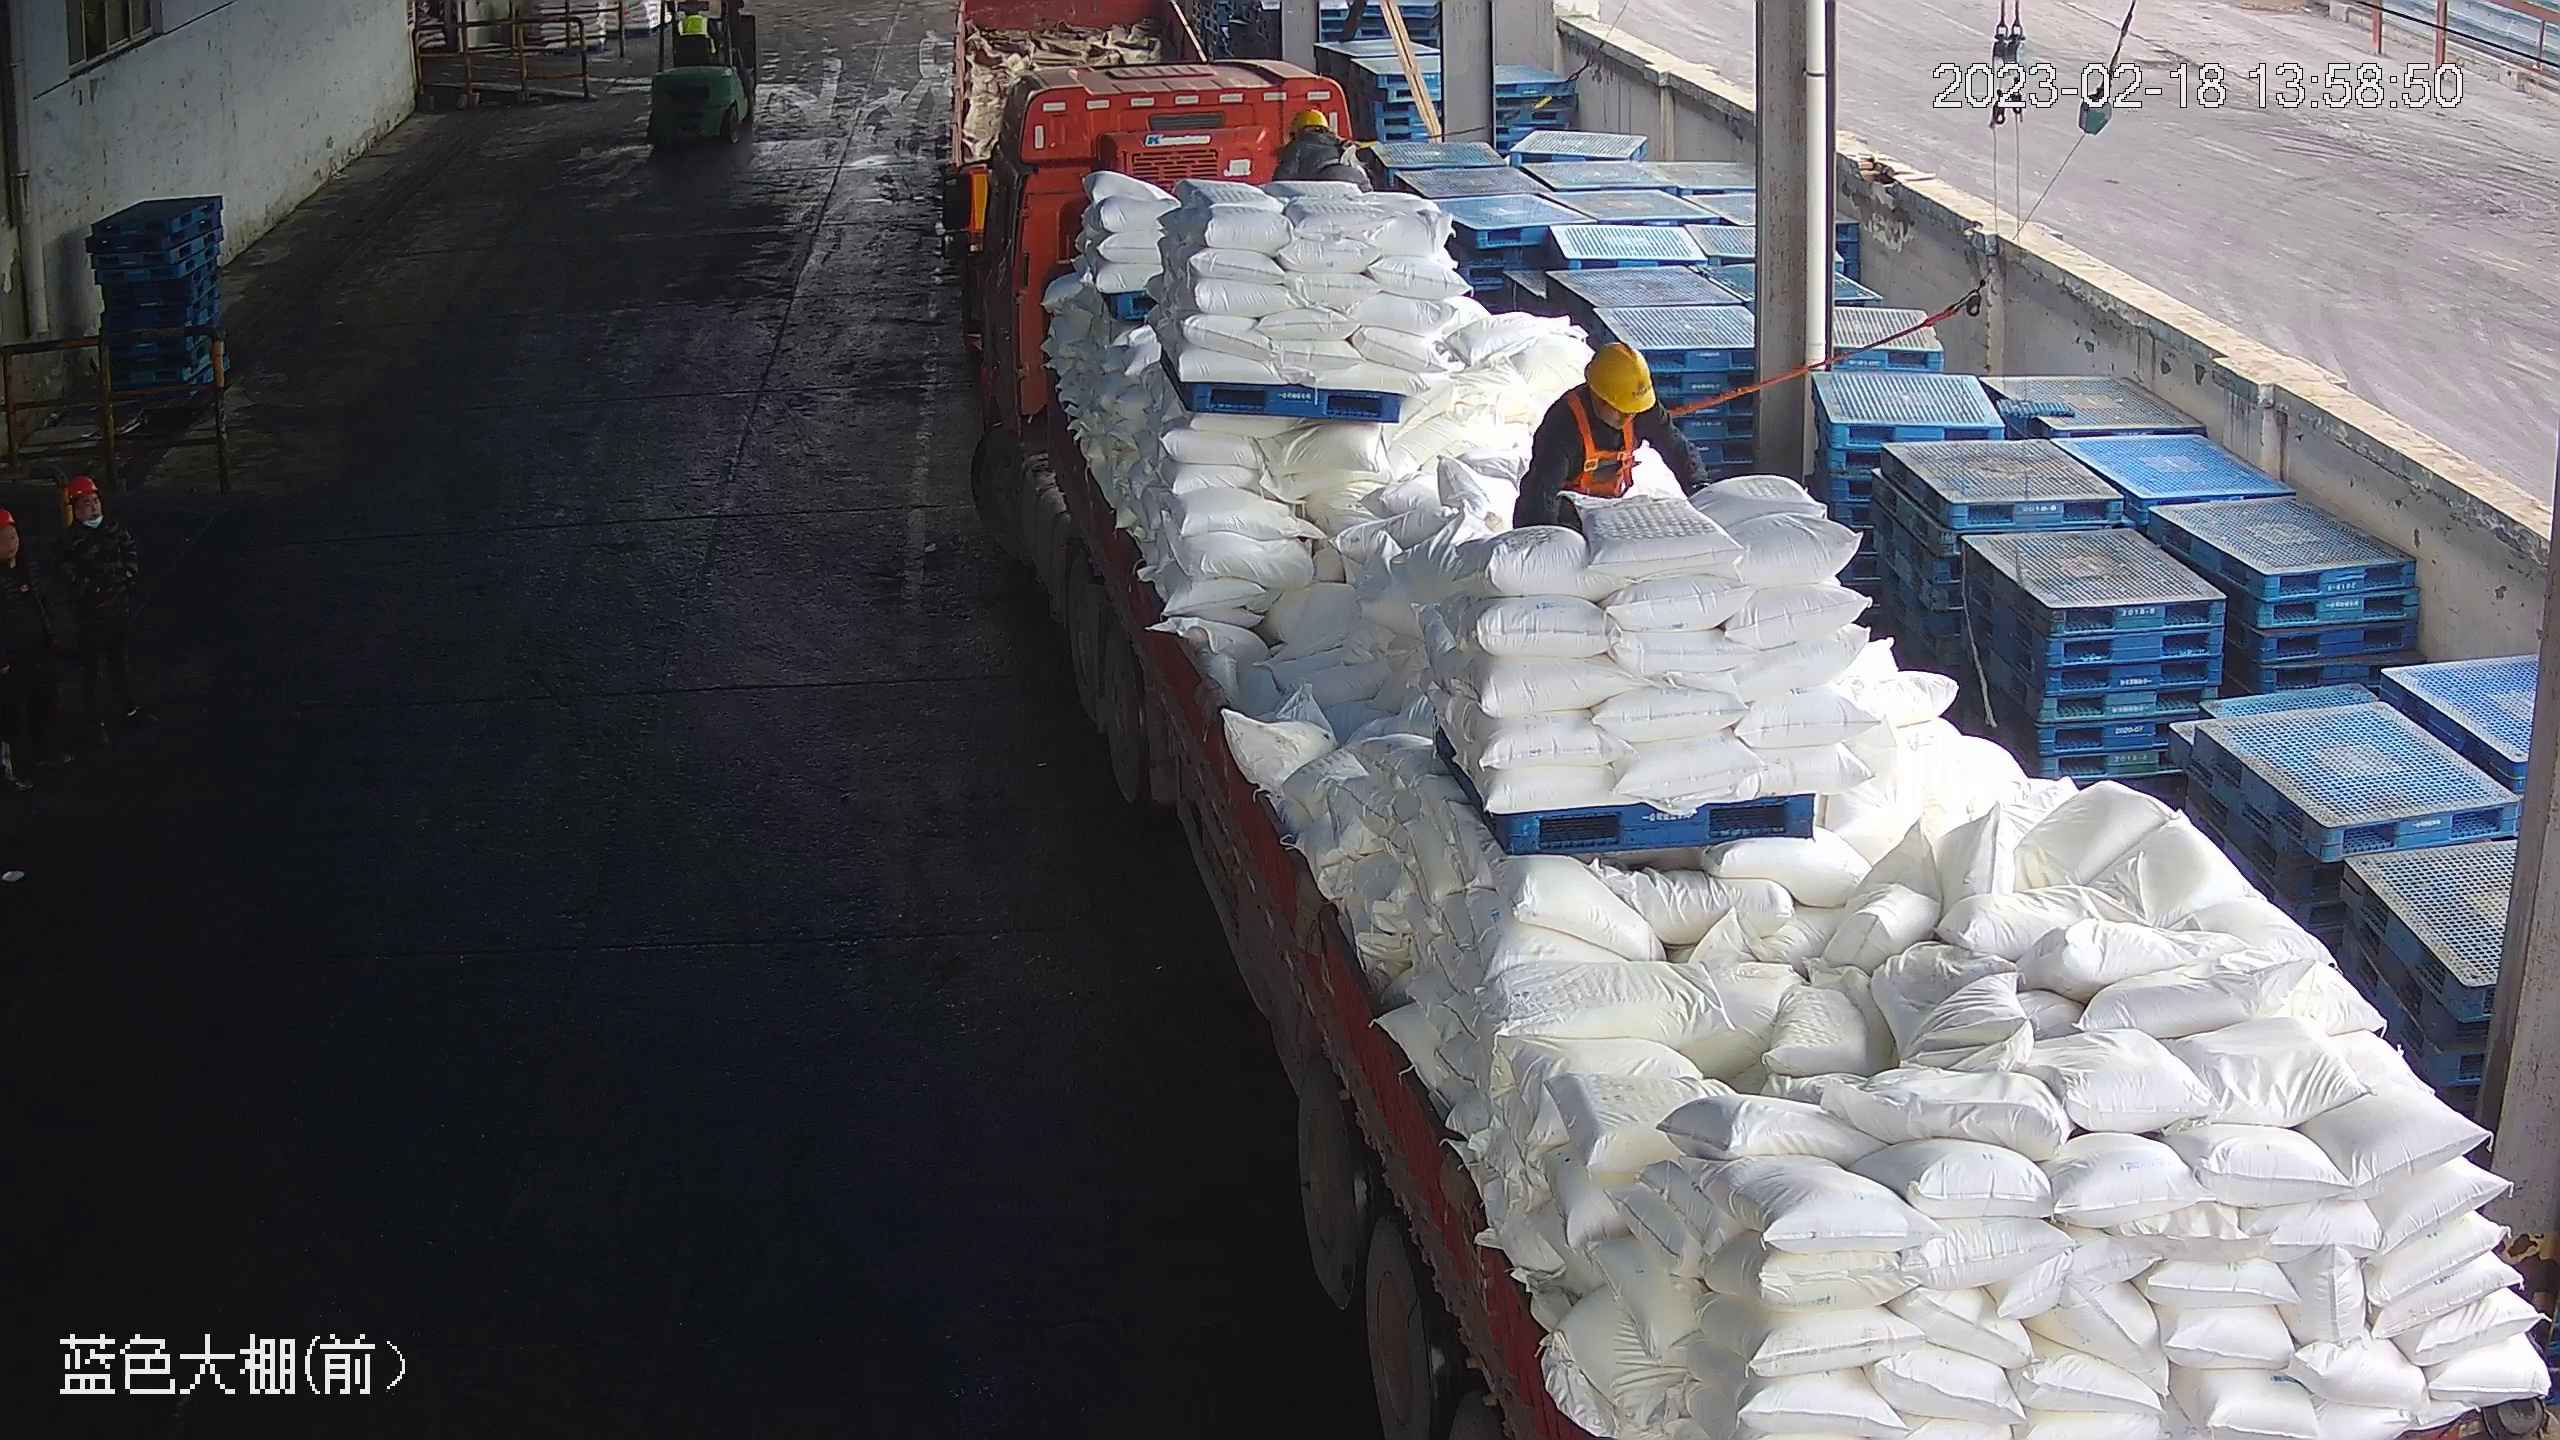belt: (1562, 393, 1652, 504), (1317, 135, 1375, 177)
head: (1531, 339, 1676, 447), (51, 472, 128, 576), (1281, 106, 1360, 160)
helmet: (1583, 338, 1656, 414), (1290, 105, 1332, 134), (60, 473, 97, 505)
people: (52, 474, 147, 762), (1, 500, 65, 788)
truck: (929, 52, 2556, 1440)
